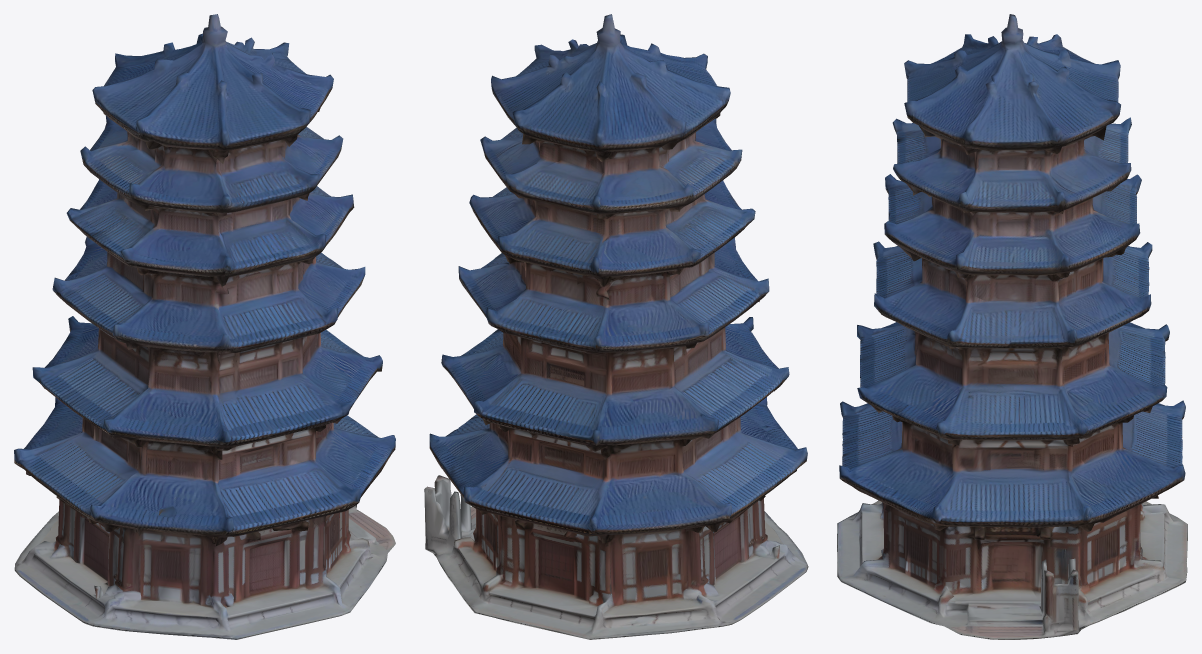
Rendered from tripo_convert_46eb0926-b8db-463c-8f43-3bec40fb76fa.fbx.
3 renders of one model, left to right at view 1: azimuth 30°, elevation 25°; view 2: azimuth 150°, elevation 25°; view 3: azimuth 270°, elevation 25°, orthographic.
Parts seen in each view (by area): view 1: tripo_node_46eb0926; view 2: tripo_node_46eb0926; view 3: tripo_node_46eb0926.
Boxes of the visible parts, x1,y1,x2,y2 form: tripo_node_46eb0926: (14, 14, 395, 639); tripo_node_46eb0926: (424, 14, 808, 639); tripo_node_46eb0926: (837, 14, 1187, 639).
Size of the model in its own units: 0.6277 by 0.9994 by 0.5821.
Materials: 1 (1 with a texture image).
